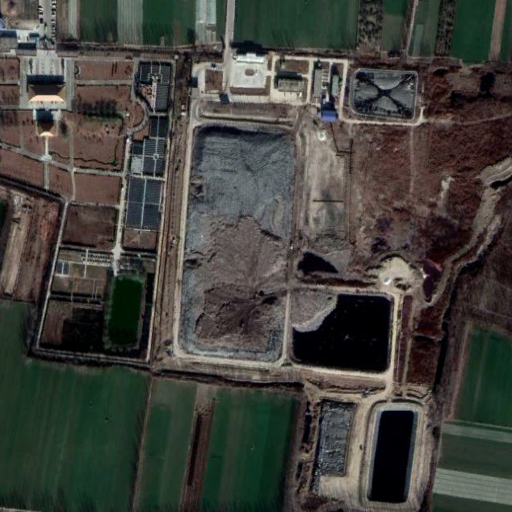lf: (172, 120, 294, 360)
